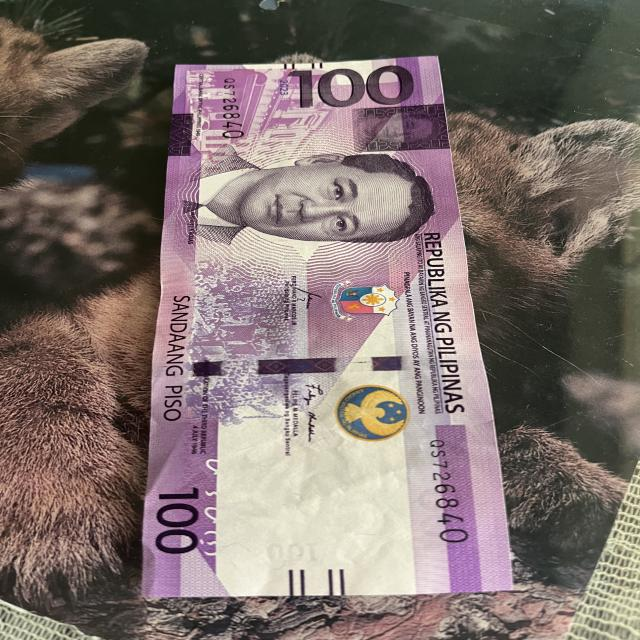concealed_value: (348, 102, 449, 153)
security_thread: (167, 355, 424, 387)
see_through_mark: (198, 448, 227, 566)
value: (277, 62, 417, 114)
value_watermark: (257, 535, 327, 563)
watermark: (215, 433, 410, 564)
